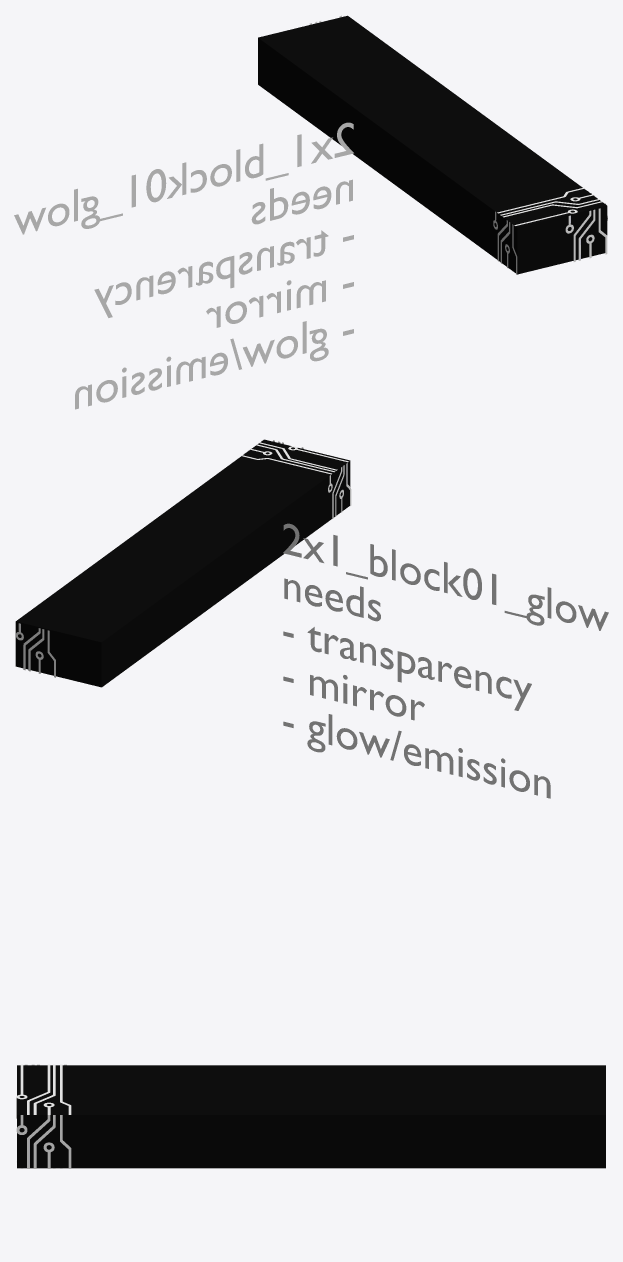
File: 2x1block_glow.fbx
3 views of the same model, one above another, from view 1: azimuth 30°, elevation 25°; view 2: azimuth 150°, elevation 25°; view 3: azimuth 270°, elevation 25° (orthographic). The views are drawn at different scales.
Parts seen in each view (by area): view 1: 2x1_block01_base, 2x1_text, 2x1_block01_glow; view 2: 2x1_block01_base, 2x1_text, 2x1_block01_glow; view 3: 2x1_block01_base, 2x1_block01_glow.
Boxes of the visible parts, bbox=[...] form: 2x1_block01_base: bbox=[258, 15, 607, 274]; 2x1_text: bbox=[14, 122, 353, 409]; 2x1_block01_glow: bbox=[309, 15, 607, 274]; 2x1_block01_base: bbox=[15, 439, 350, 687]; 2x1_text: bbox=[283, 523, 608, 798]; 2x1_block01_glow: bbox=[16, 440, 351, 677]; 2x1_block01_base: bbox=[17, 1065, 605, 1168]; 2x1_block01_glow: bbox=[16, 1064, 71, 1168].
Size of the model in its own units: 1062 by 492 by 1010.
